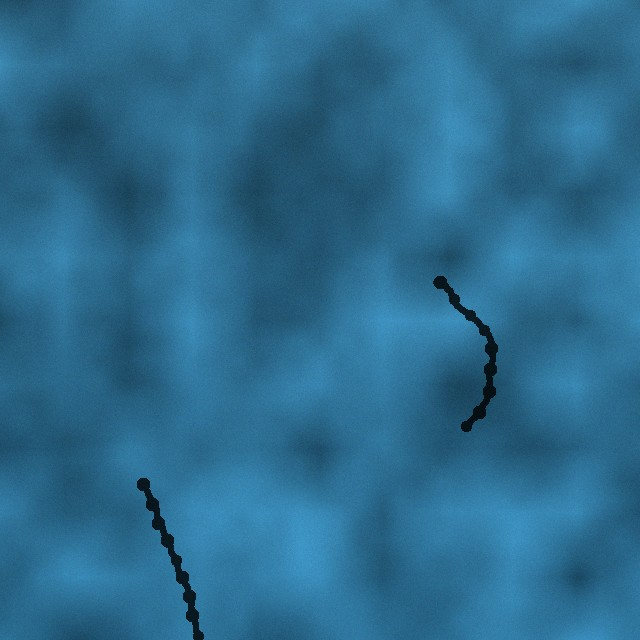crack: (137, 478, 206, 639), (429, 275, 499, 432)
